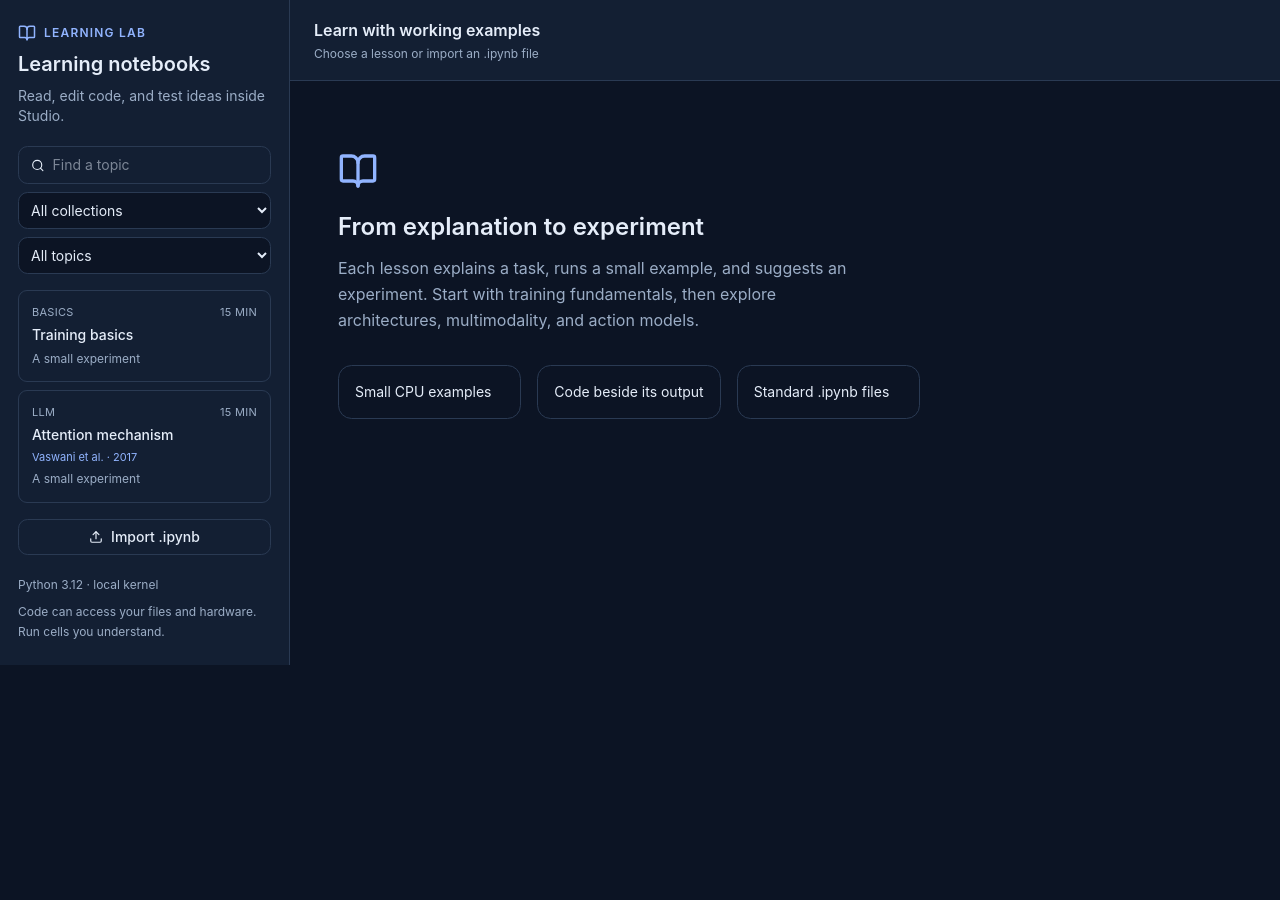
Test: filters paper studies by collection and searches the original paper title
The image size is (1280, 900).
expect the text "Attention mechanism" is shown: met, box [32,426,174,442]
Select "Paper studies · with experiments" in the dropdown named "Collection" at (144, 210), box [18,192,271,229]
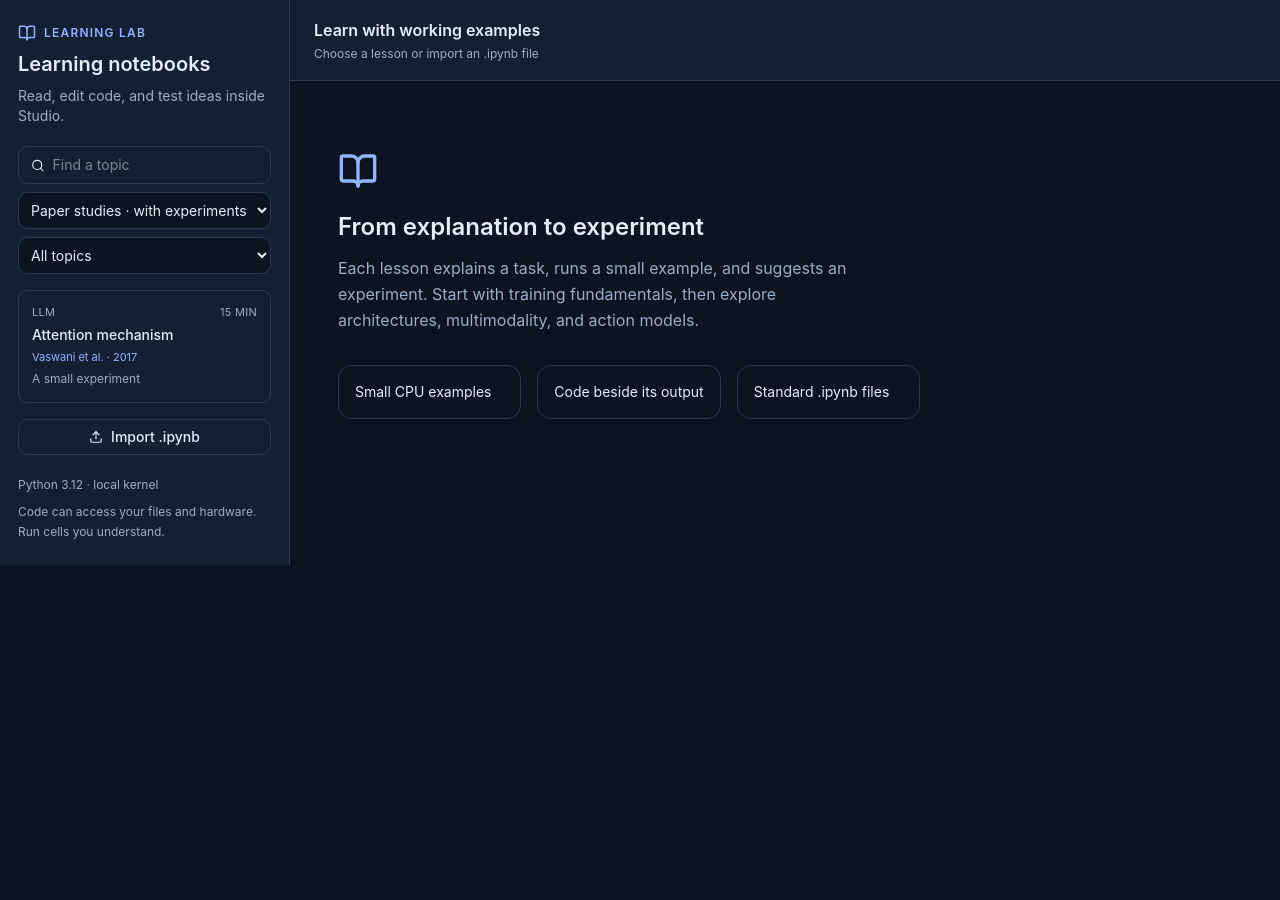
expect the text "Vaswani et al. · 2017" is shown: met, box [32,350,137,364]
expect the button "Training basics" is gone: met
Type "All You Need" into the field named "Search lessons" at (155, 165), box [53,155,258,175]
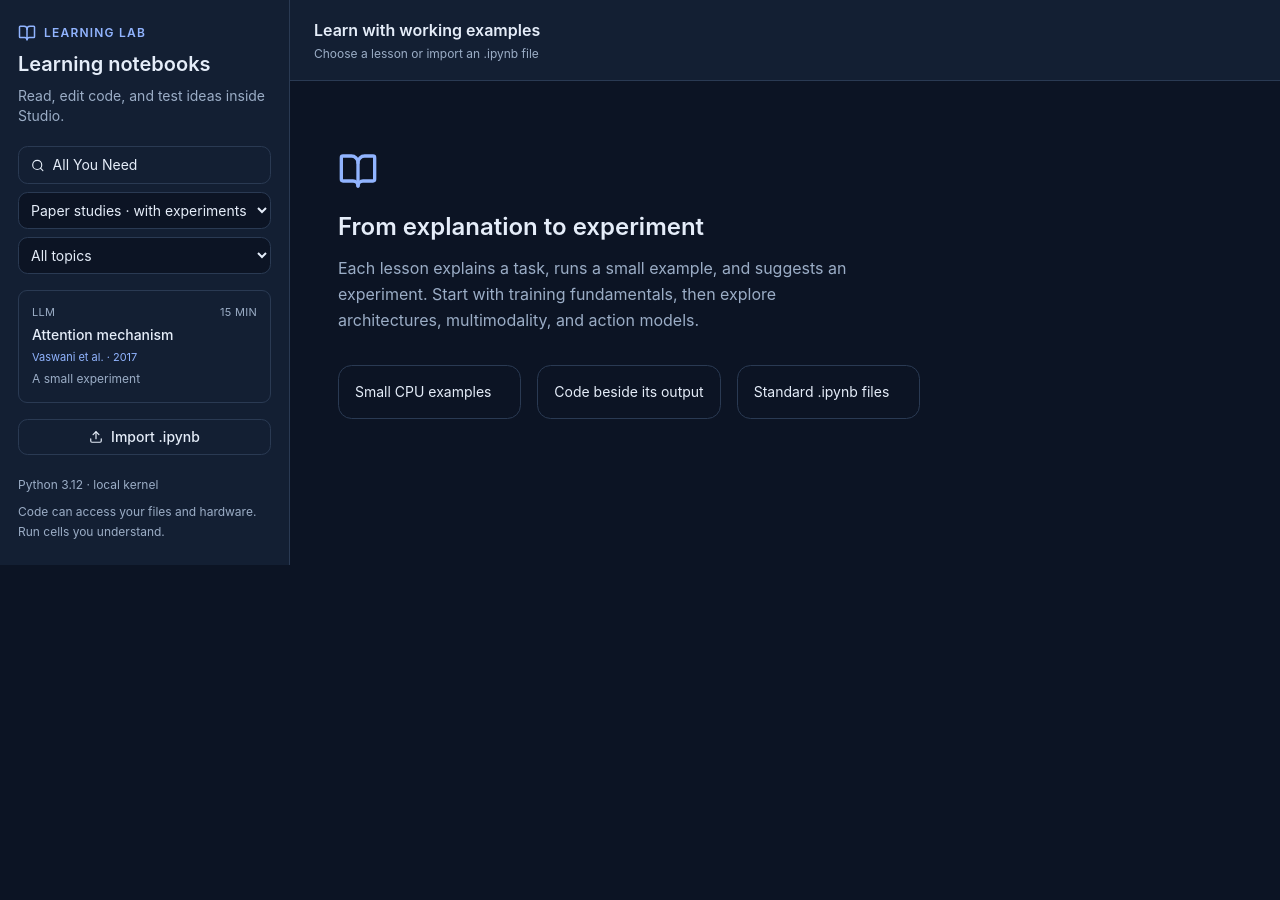
expect the text "Attention mechanism" is shown: met, box [32,326,174,342]
Select "BASICS" in the dropdown named "Topic" at (144, 256), box [18,237,271,274]
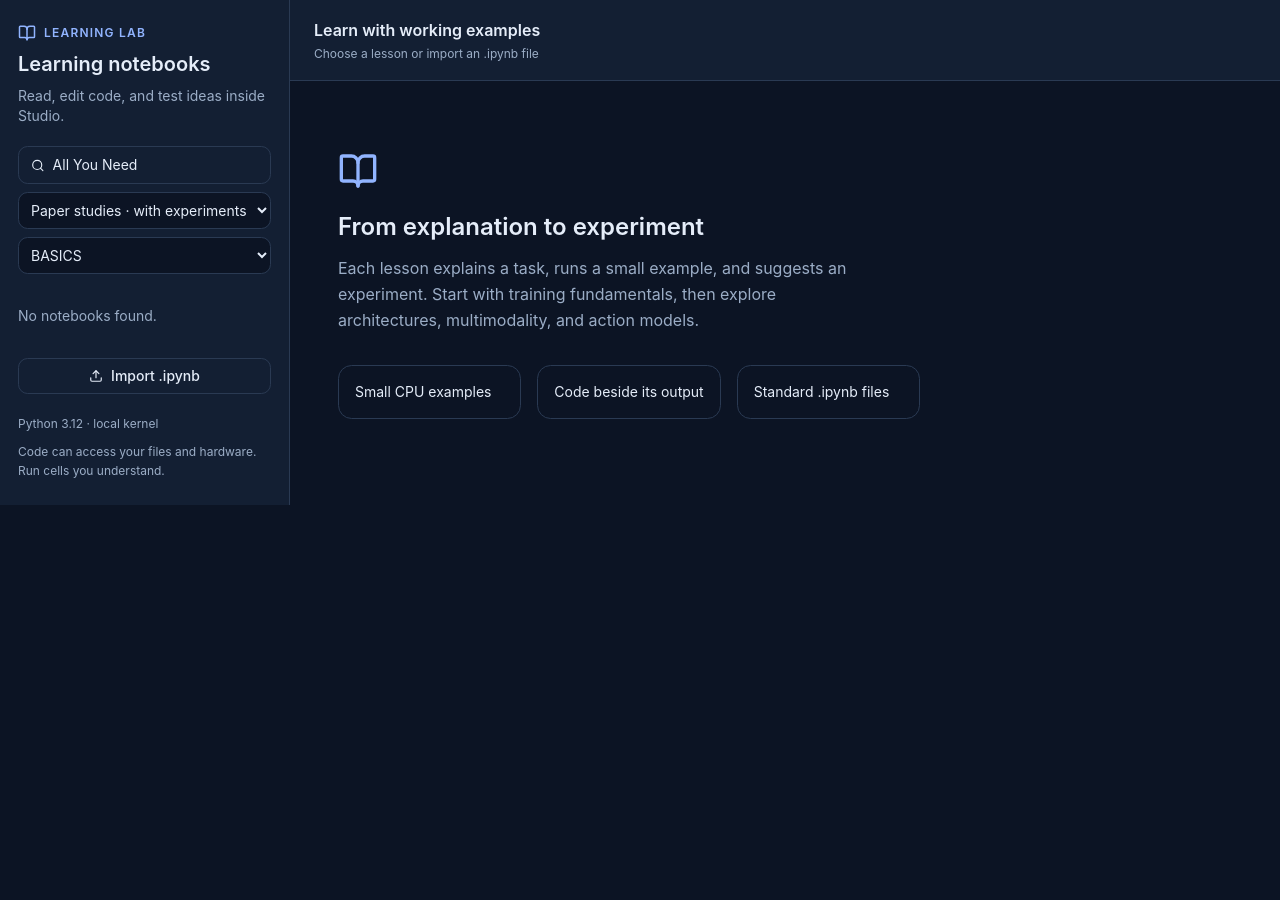
expect the button "Attention mechanism" is gone: met
